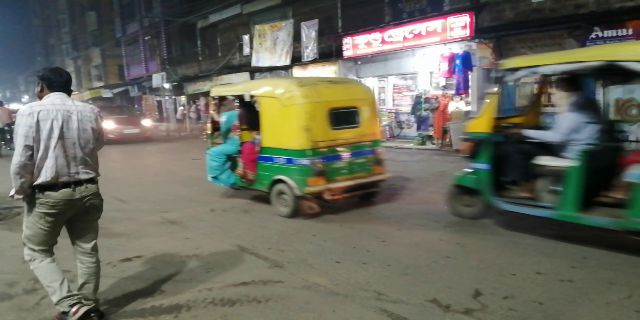Autorickshaw: (448, 46, 636, 227), (195, 74, 387, 204)
Car: (94, 103, 154, 140)
